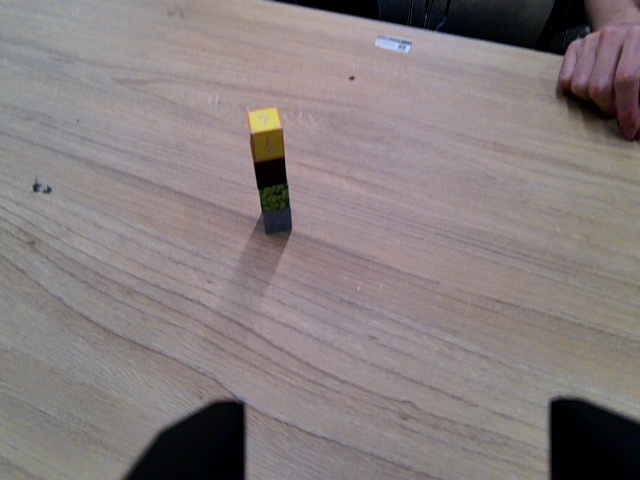brick: (254, 163, 289, 184)
grass: (257, 188, 292, 208)
lucky: (241, 106, 286, 156)
stone: (261, 213, 295, 232)
